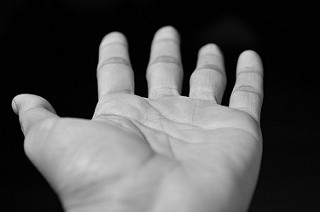palm: (97, 92, 243, 195)
